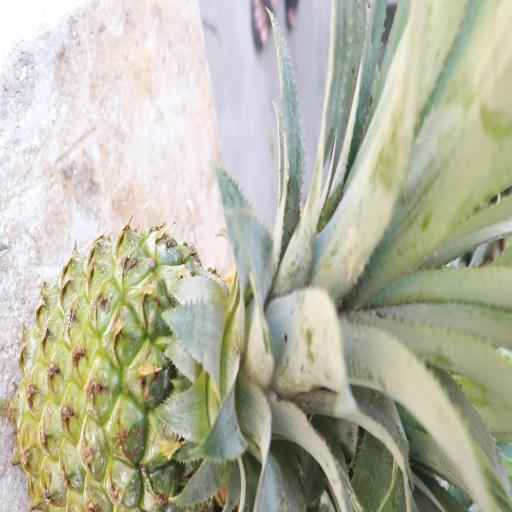------------------------------: (18, 234, 319, 512)
